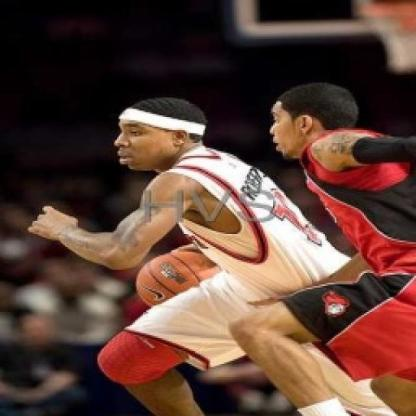basketball: (133, 247, 231, 313)
